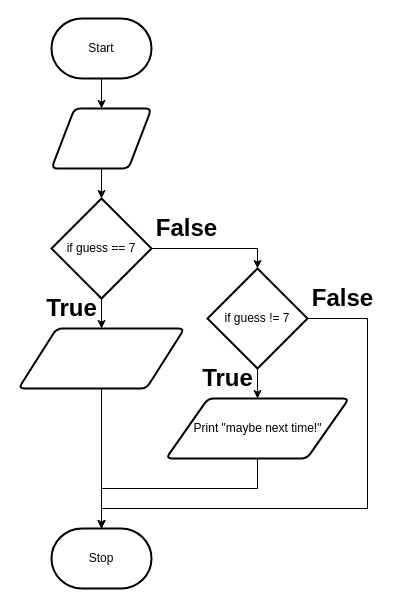
The diagram is 394 pixels wide and 606 high, and some of its shapes have lost their labels. The shapes that lost their labels are listed below. From the top down, each one's box as (x1, y1, x2, y2) in pixels, then its label:
(50, 107, 152, 169): Get guess
(17, 327, 185, 389): Print "you got it!"
